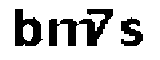7: (96, 6, 116, 39)
b: (11, 6, 43, 51)
m: (46, 18, 96, 50)
s: (118, 14, 146, 52)
